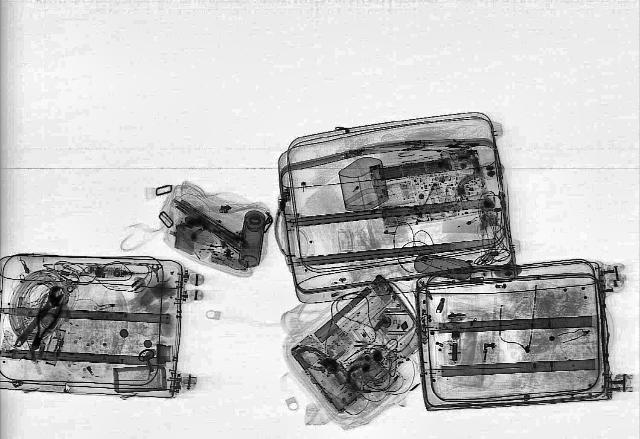Pliers: (21, 301, 65, 349)
Wrench: (4, 283, 72, 349)
